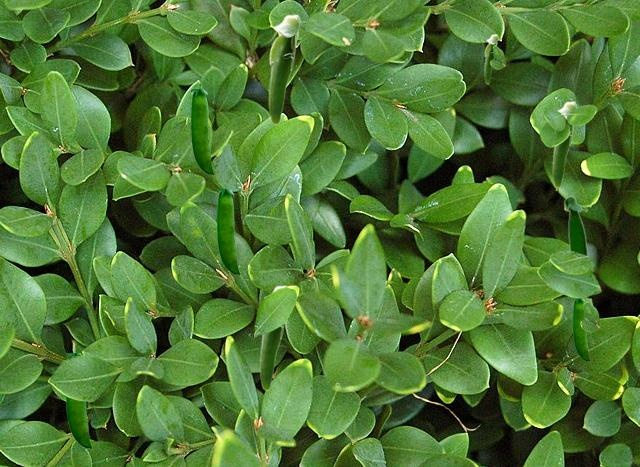pea: (268, 14, 300, 124), (259, 285, 286, 390), (66, 353, 91, 449), (552, 101, 576, 187), (217, 189, 239, 275), (191, 89, 213, 175), (563, 195, 587, 254), (573, 298, 589, 361), (484, 34, 497, 83)
